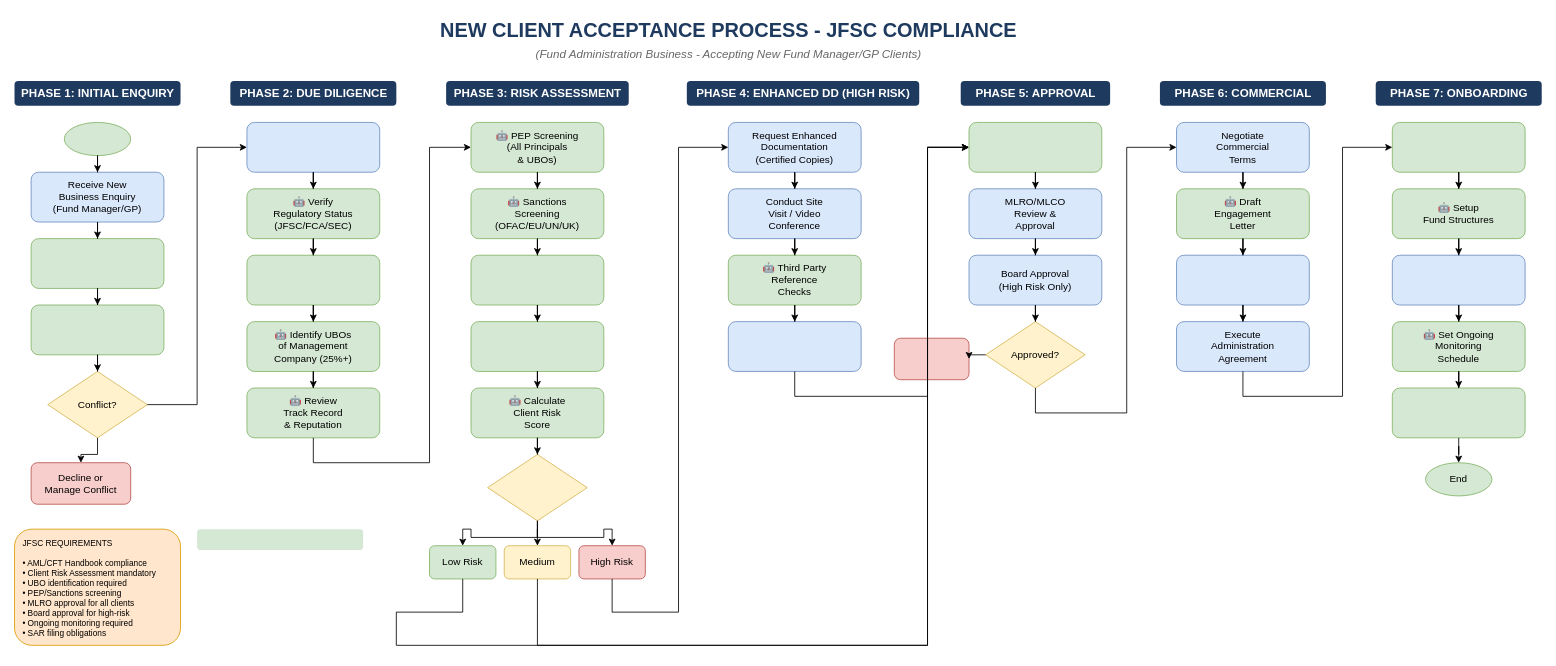
This 1556x666 diagram has some shape labels left out. The shapes that lost their labels are listed below. From the top down, each one's centre as x and y in pixels, then its label:
At (97,139): "Start".
At (313,147): "Collect Client Documentation Package".
At (1035,147): "🤖 Prepare Client Acceptance Memo".
At (1458,147): "🤖 Create Client Record in Systems".
At (97,263): "🤖 Initial Screening (Jurisdiction/Product)".
At (313,279): "🤖 Verify Principals/Directors (ID & Background)".
At (537,279): "🤖 Adverse Media Search".
At (1242,279): "Legal Review of Terms".
At (1458,279): "Setup Portal Access & Permissions".
At (97,329): "🤖 Conflict of Interest Check (Existing Clients)".
At (537,346): "🤖 Source of Wealth/Funds Assessment".
At (794,346): "Detailed Source of Wealth Documentation".
At (931,358): "Decline & Document".
At (1458,412): "🤖 Generate Welcome Pack".
At (537,487): "Risk Level?".
At (280,539): "🤖 = AI Automation Opportunity".
